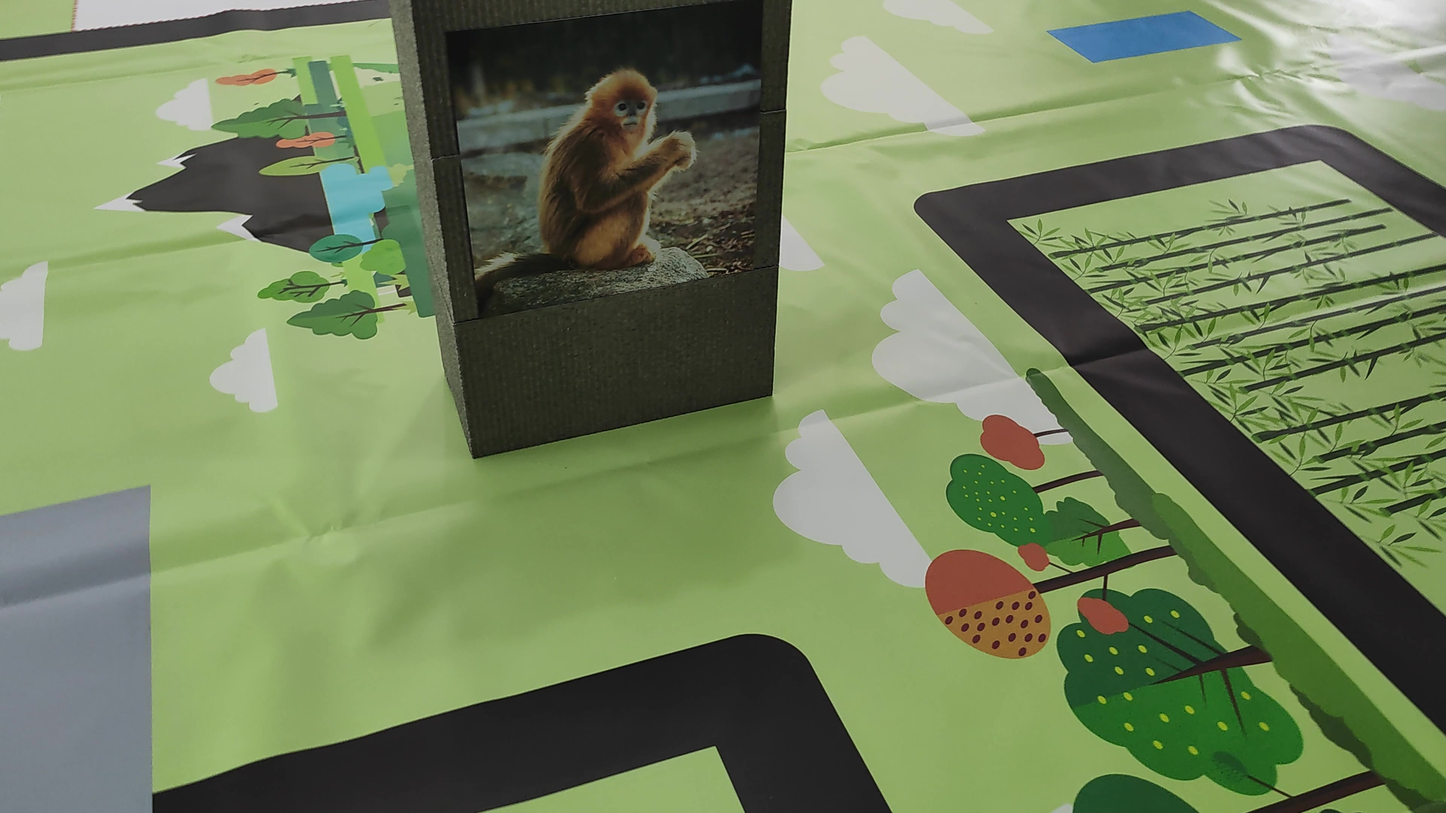monkey: (463, 55, 723, 323)
